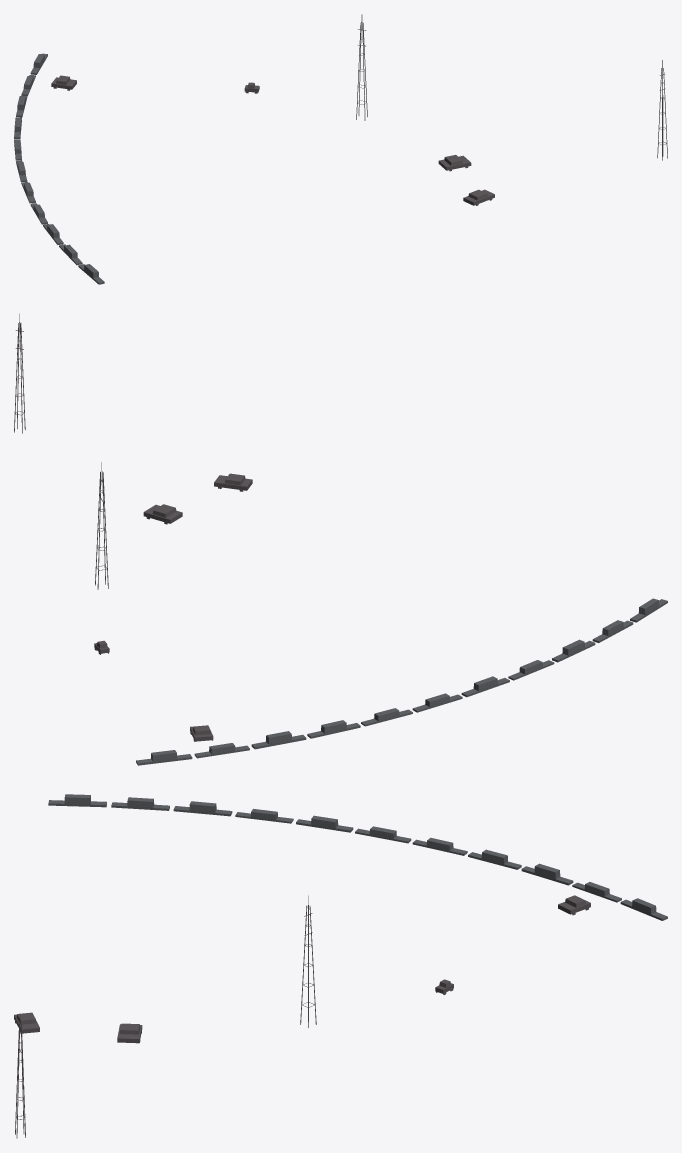
The model's file is SM_City_AlTariqAlMasdud_3.fbx.
The picture shows the model from 3 angles, top to bottom: view 1: azimuth 30°, elevation 25°; view 2: azimuth 150°, elevation 25°; view 3: azimuth 270°, elevation 25°; orthographic projection. The views are drawn at different scales.
Parts seen in each view (by area): view 1: SM_City_AlTariqAlMasdud_3; view 2: SM_City_AlTariqAlMasdud_3; view 3: SM_City_AlTariqAlMasdud_3.
Boxes of the visible parts, left/top/right/bottom form: SM_City_AlTariqAlMasdud_3: left=14, top=14, right=667, bottom=284; SM_City_AlTariqAlMasdud_3: left=14, top=313, right=667, bottom=765; SM_City_AlTariqAlMasdud_3: left=14, top=794, right=667, bottom=1138.
Size of the model in its own units: 11331 by 2031 by 9306.
2 materials, 2 textured.
